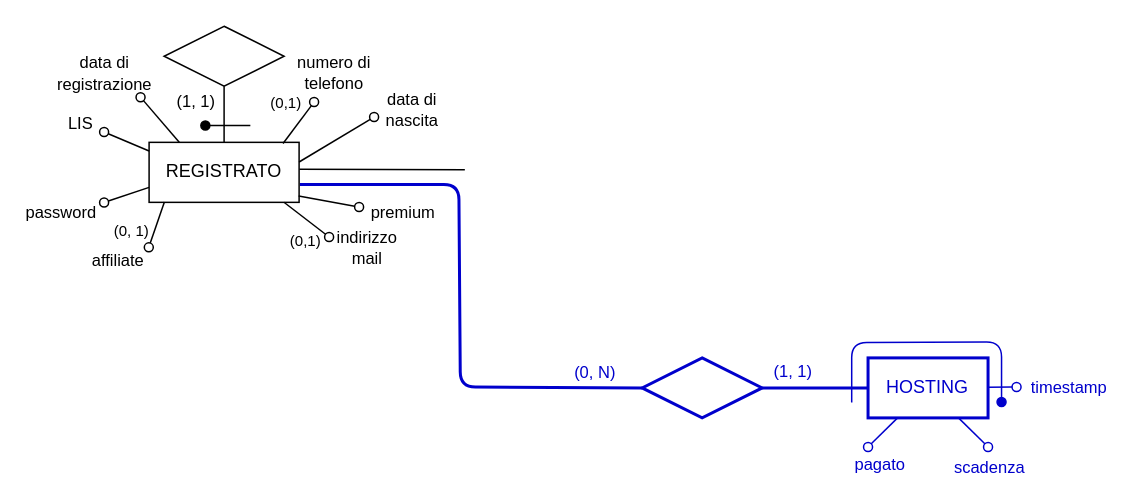
This 1133x503 diagram has some shape labels left out. Each missing label, with the box of its shape:
partizione: (163, 25, 284, 86)
rinnovo: (640, 356, 763, 419)
